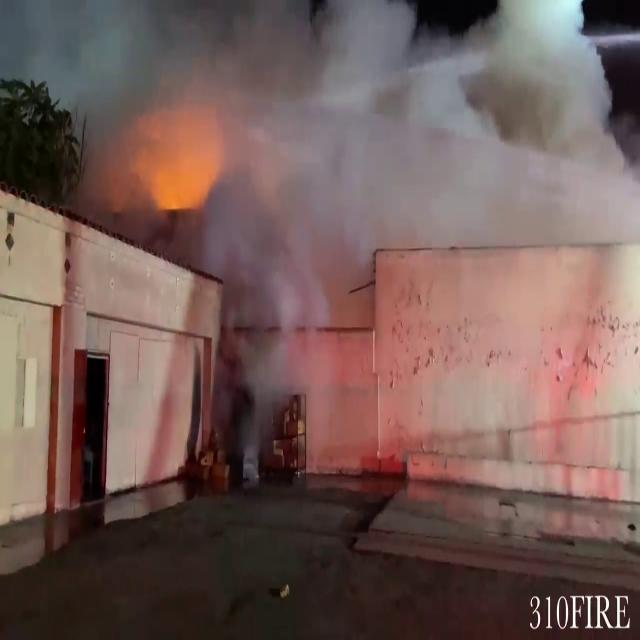Smoke: (87, 1, 638, 280)
